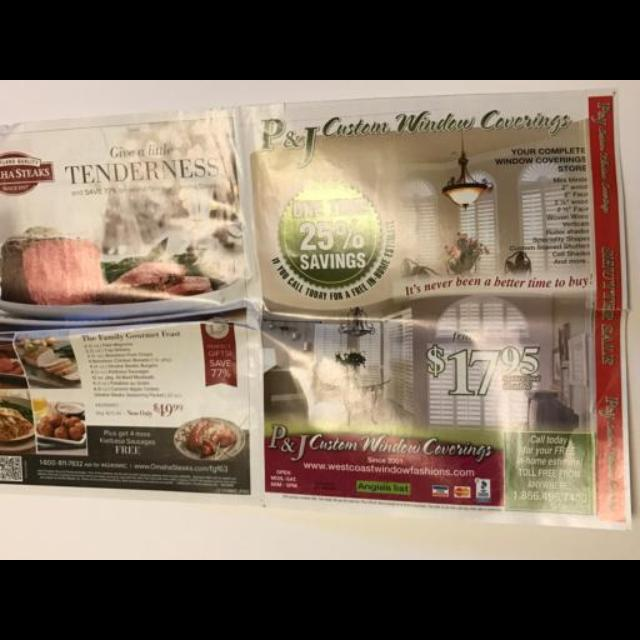papel: (0, 83, 634, 525)
